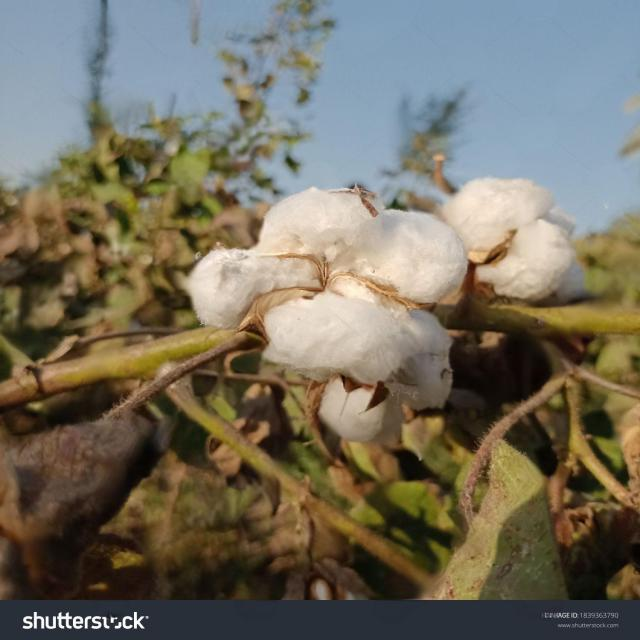Leaf: (168, 164, 485, 443), (433, 159, 613, 315)
